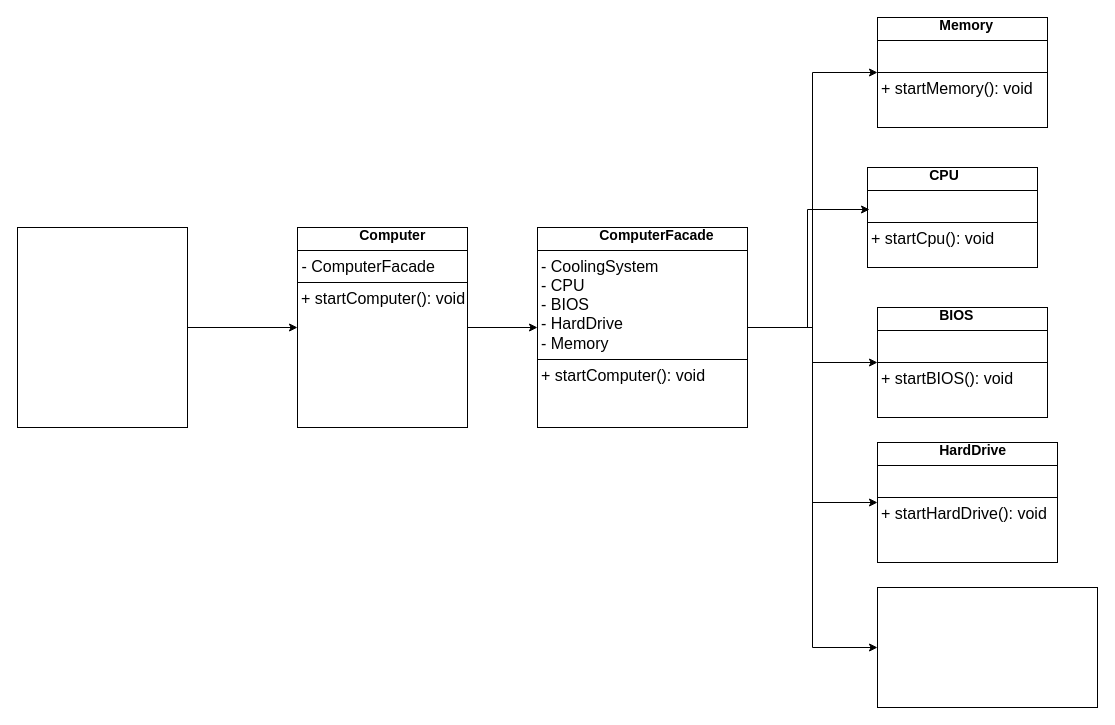
The diagram is 1115 pixels wide and 725 high, and some of its shapes have lost their labels. The centre of each missing label's shape, as x and y in pixels:
Client - Computer + onComputer(): point 102,327
CoolingSystem + startCoolingSystem(): void: point 987,647
